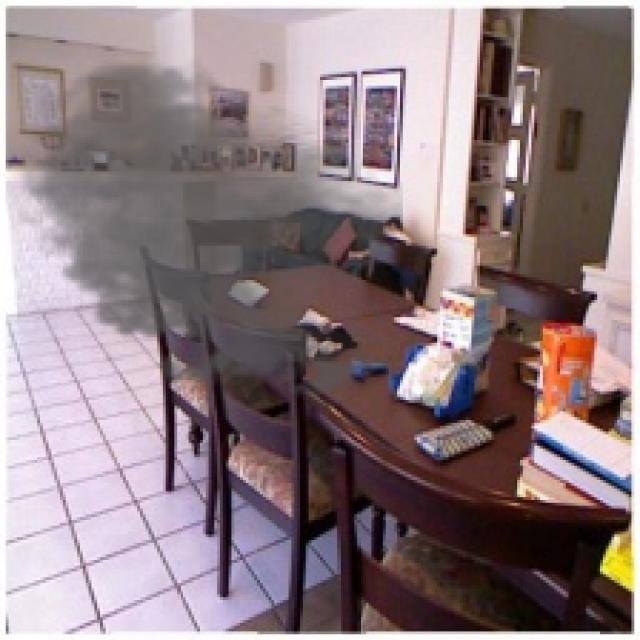smoke: (3, 54, 403, 409)
